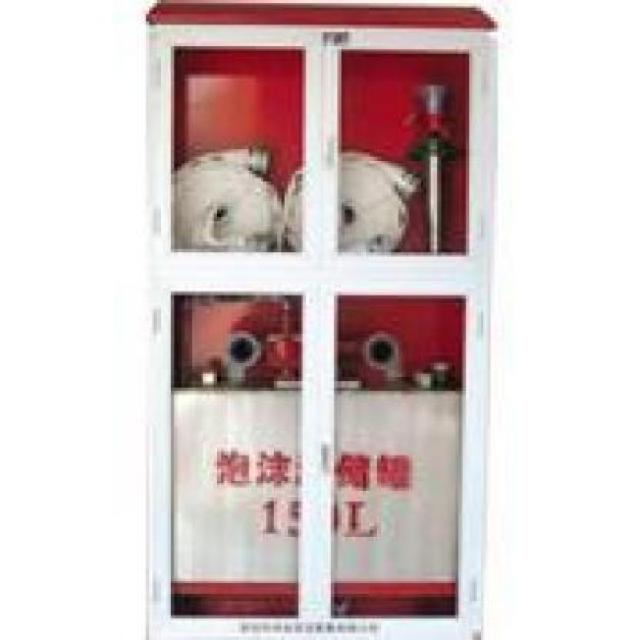firehydrant: (137, 0, 505, 640)
